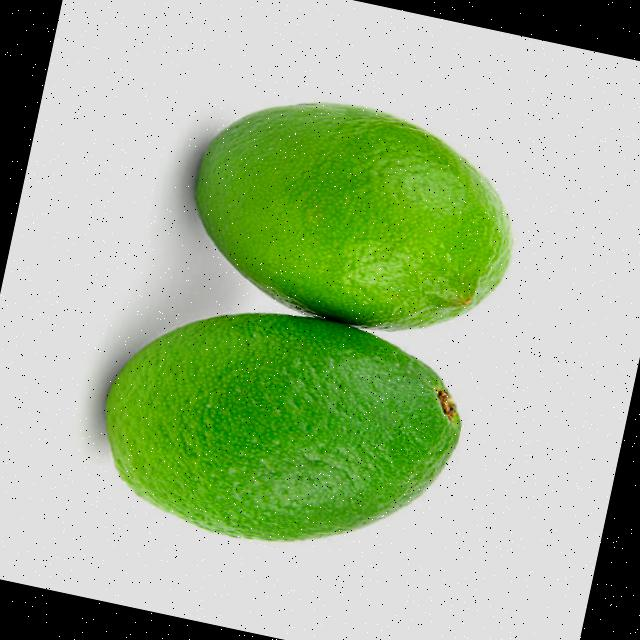Unripe: (80, 278, 478, 581), (172, 75, 535, 356)
